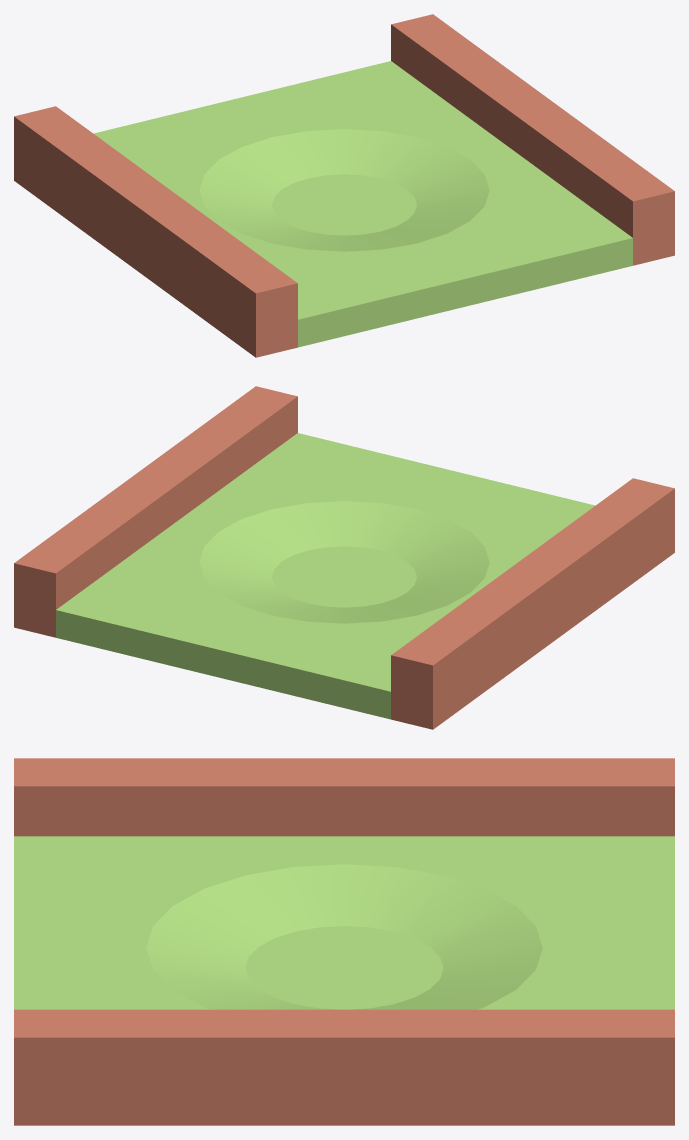
Rendered from Bump_down_walls_01.glb.
3 views of the same model, one above another, from view 1: azimuth 30°, elevation 25°; view 2: azimuth 150°, elevation 25°; view 3: azimuth 270°, elevation 25° (orthographic). The views are drawn at different scales.
Visible parts, largest first — view 1: Mesh1 Bump_down_walls Model; view 2: Mesh1 Bump_down_walls Model; view 3: Mesh1 Bump_down_walls Model.
Boxes of the visible parts, x1,y1,x2,y2 form: Mesh1 Bump_down_walls Model: [14, 14, 674, 357]; Mesh1 Bump_down_walls Model: [14, 386, 674, 729]; Mesh1 Bump_down_walls Model: [14, 758, 674, 1125].
Bounding box in the file's own units: 3 × 0.44 × 3.
